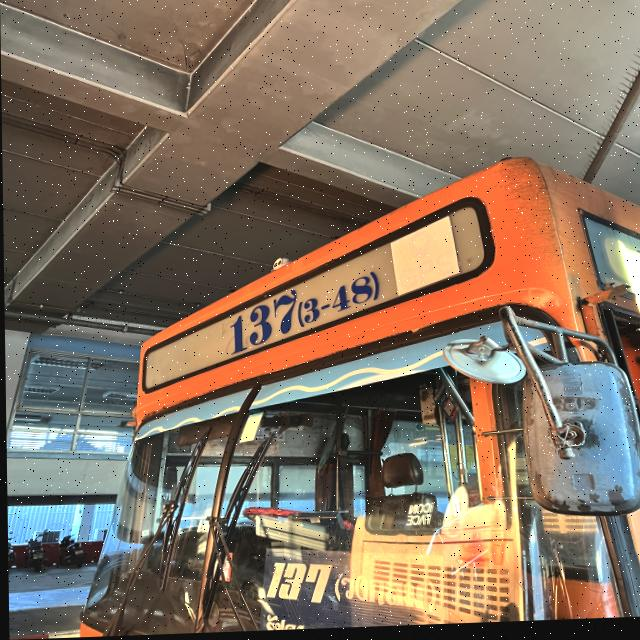BMTA-bus: (78, 162, 640, 638)
Bus Line Number: (214, 249, 393, 364)
Destination Sign: (251, 549, 444, 633)
